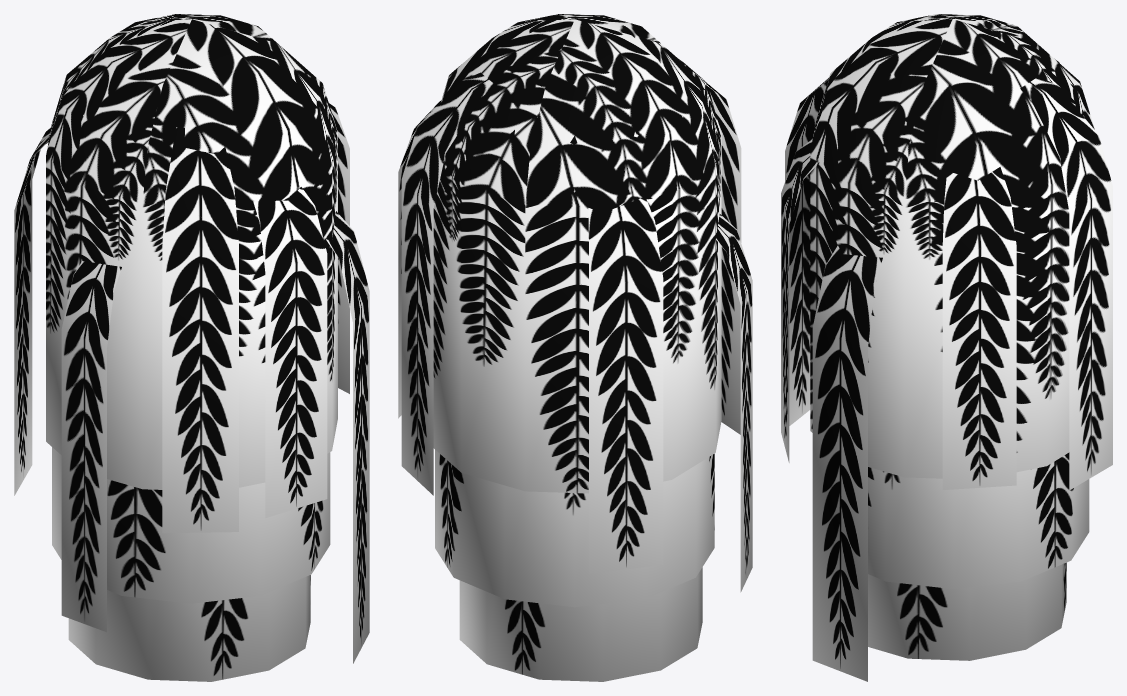
Rendered from willow_leafs_2_fbx.fbx.
3 views of the same model, side by side, from view 1: azimuth 30°, elevation 25°; view 2: azimuth 150°, elevation 25°; view 3: azimuth 270°, elevation 25° (orthographic). The views are drawn at different scales.
Visible parts, largest first — view 1: pCylinder70; view 2: pCylinder70; view 3: pCylinder70.
Boxes of the visible parts, box(x1,y1,x2,y2) form: pCylinder70: box(14, 14, 369, 681); pCylinder70: box(398, 14, 752, 681); pCylinder70: box(781, 14, 1112, 681).
Size of the model in its own units: 2.03 by 3.97 by 1.99.
